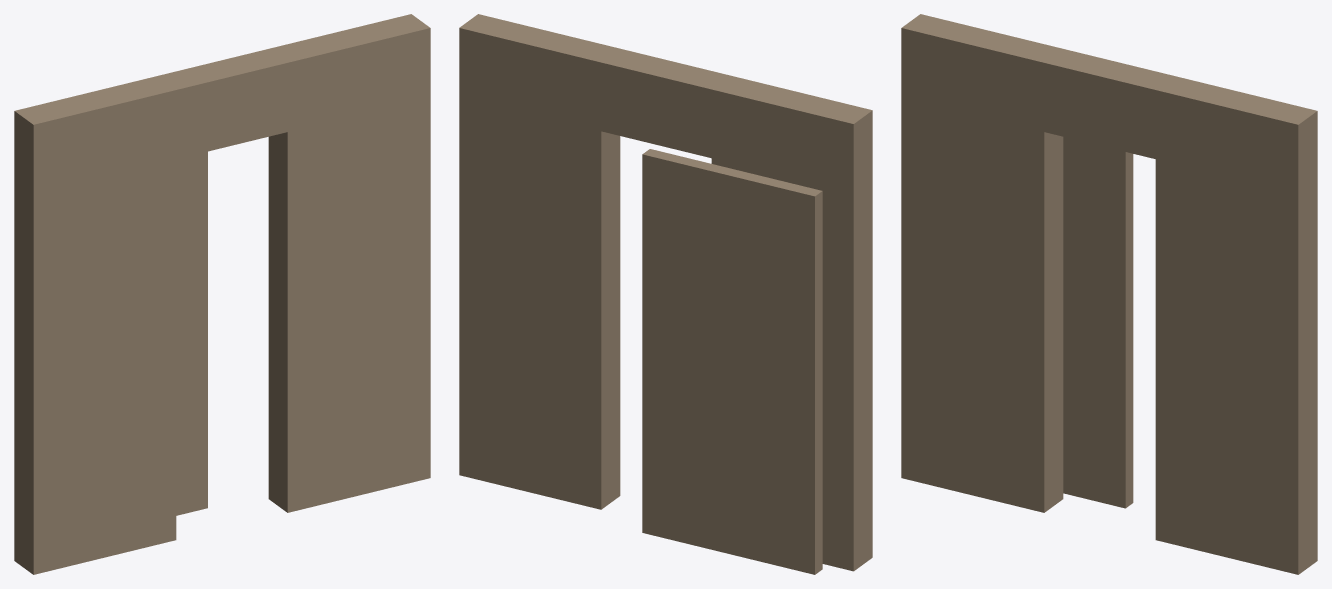
The model's file is iz3_build_defense_gate_02.glb.
3 views of the same model, side by side, from view 1: azimuth 30°, elevation 25°; view 2: azimuth 150°, elevation 25°; view 3: azimuth 330°, elevation 25° (orthographic).
Parts seen in each view (by area): view 1: left, right, door_leaf, lintel; view 2: right, door_leaf, left, lintel; view 3: right, left, door_leaf, lintel.
Part boxes in pixels (x1=…): left: x1=14, y1=76, x2=176, y2=574; right: x1=268, y1=14, x2=430, y2=512; door_leaf: x1=176, y1=151, x2=207, y2=515; lintel: x1=158, y1=49, x2=287, y2=158; right: x1=459, y1=14, x2=620, y2=509; door_leaf: x1=642, y1=149, x2=822, y2=574; left: x1=711, y1=75, x2=872, y2=571; lintel: x1=601, y1=48, x2=730, y2=158; right: x1=1155, y1=76, x2=1317, y2=574; left: x1=901, y1=14, x2=1063, y2=512; door_leaf: x1=1063, y1=137, x2=1133, y2=508; lintel: x1=1044, y1=49, x2=1173, y2=158.
Size of the model in its own units: 2.4 by 2.6 by 0.34.
